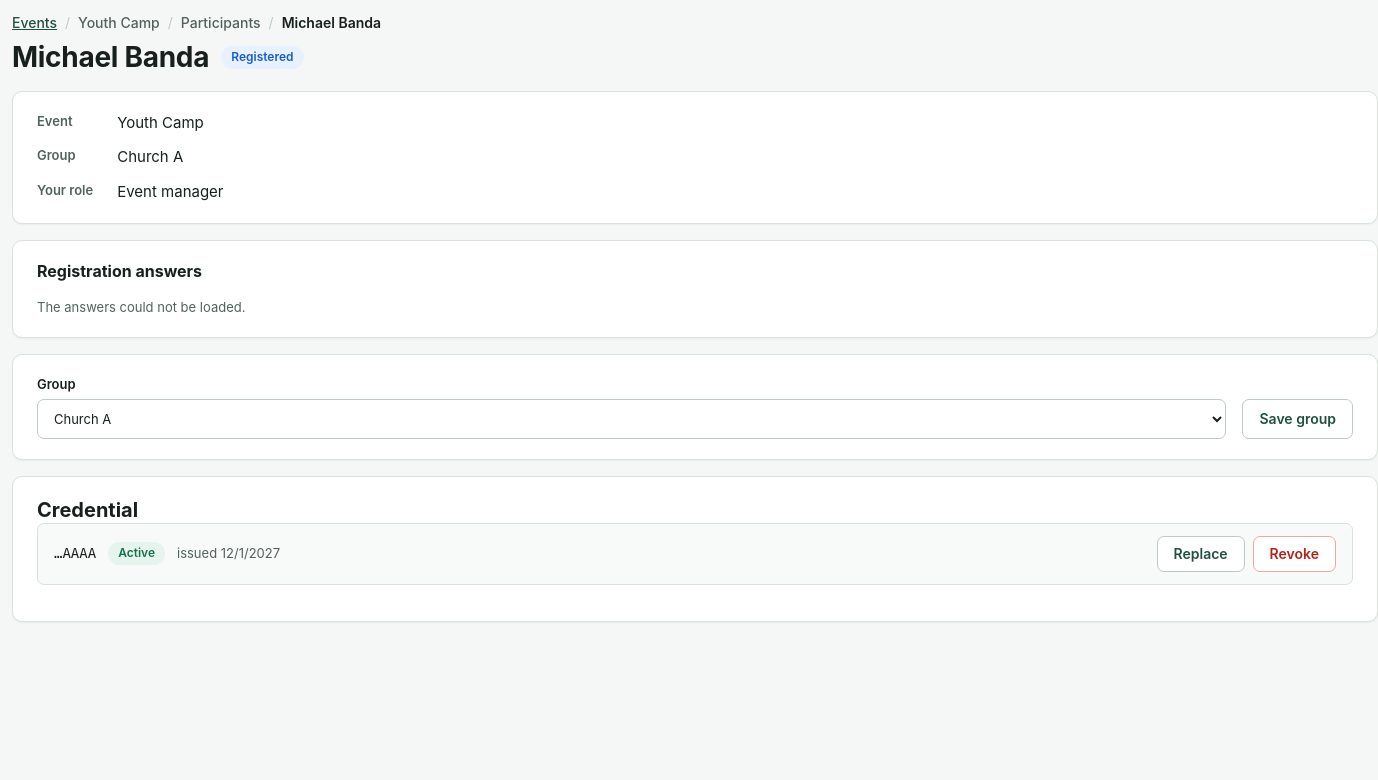
Test: ParticipantDetailPage › replaces a credential: the old pass is revoked and the QR encodes the new token
The width and height of the screenshot is (1378, 780).
Click the button "Replace" at (1201, 554), box [1156, 536, 1245, 572]
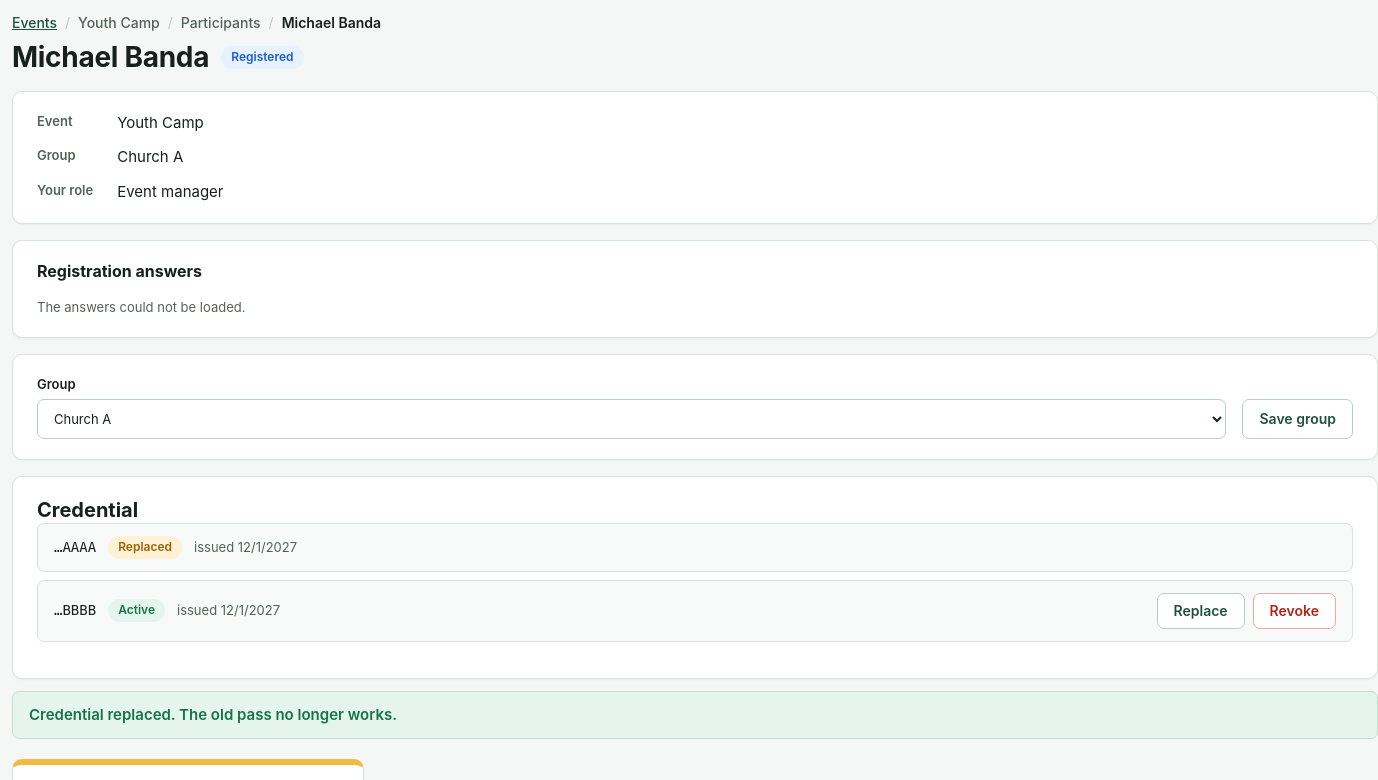
Now the text "Credential replaced. The old pass no longer works." is shown, box [12, 691, 1377, 739]
